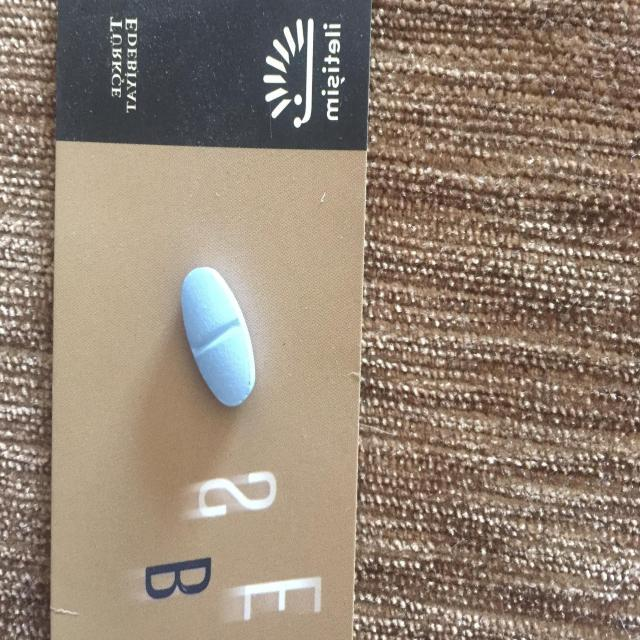pill: (176, 258, 266, 409)
